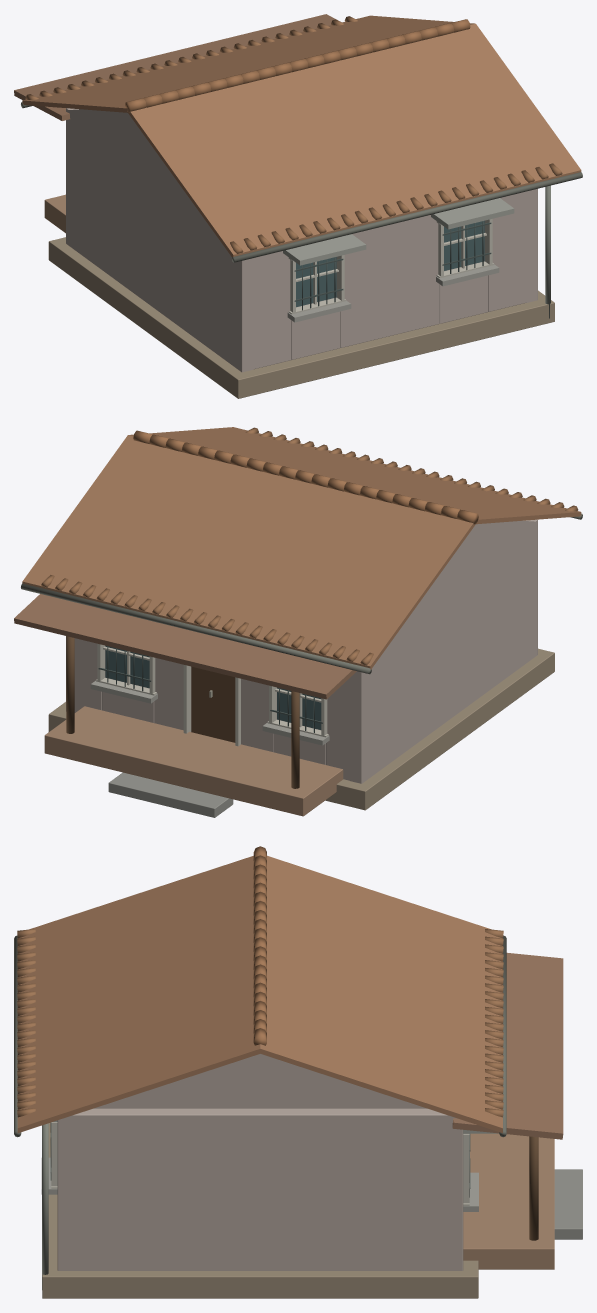
The model's file is tiled_cottage.glb.
The picture shows the model from 3 angles, top to bottom: view 1: azimuth 30°, elevation 25°; view 2: azimuth 150°, elevation 25°; view 3: azimuth 270°, elevation 25°; orthographic projection. The views are drawn at different scales.
Parts seen in each view (by area): view 1: tiled_cottage; view 2: tiled_cottage; view 3: tiled_cottage.
Boxes of the visible parts, bbox=[...] form: tiled_cottage: bbox=[14, 14, 582, 398]; tiled_cottage: bbox=[14, 427, 582, 817]; tiled_cottage: bbox=[14, 846, 582, 1298].
Bounding box in the file's own units: 7.52 × 4.78 × 9.26.
